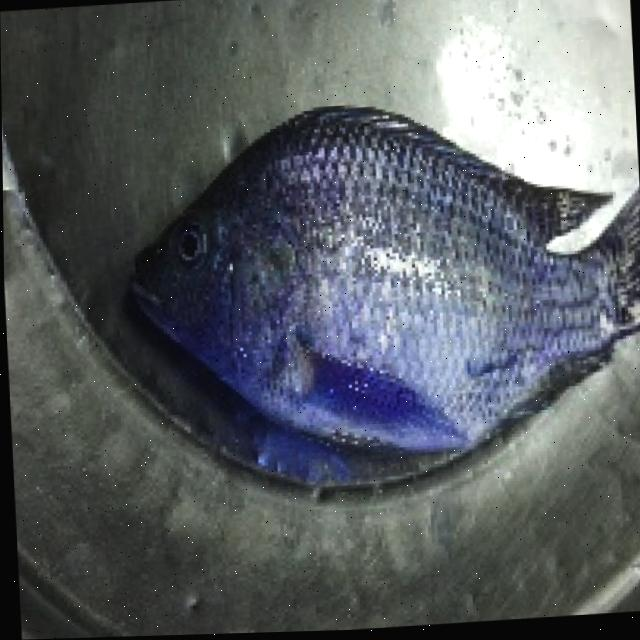Fresh: (125, 95, 640, 498)
